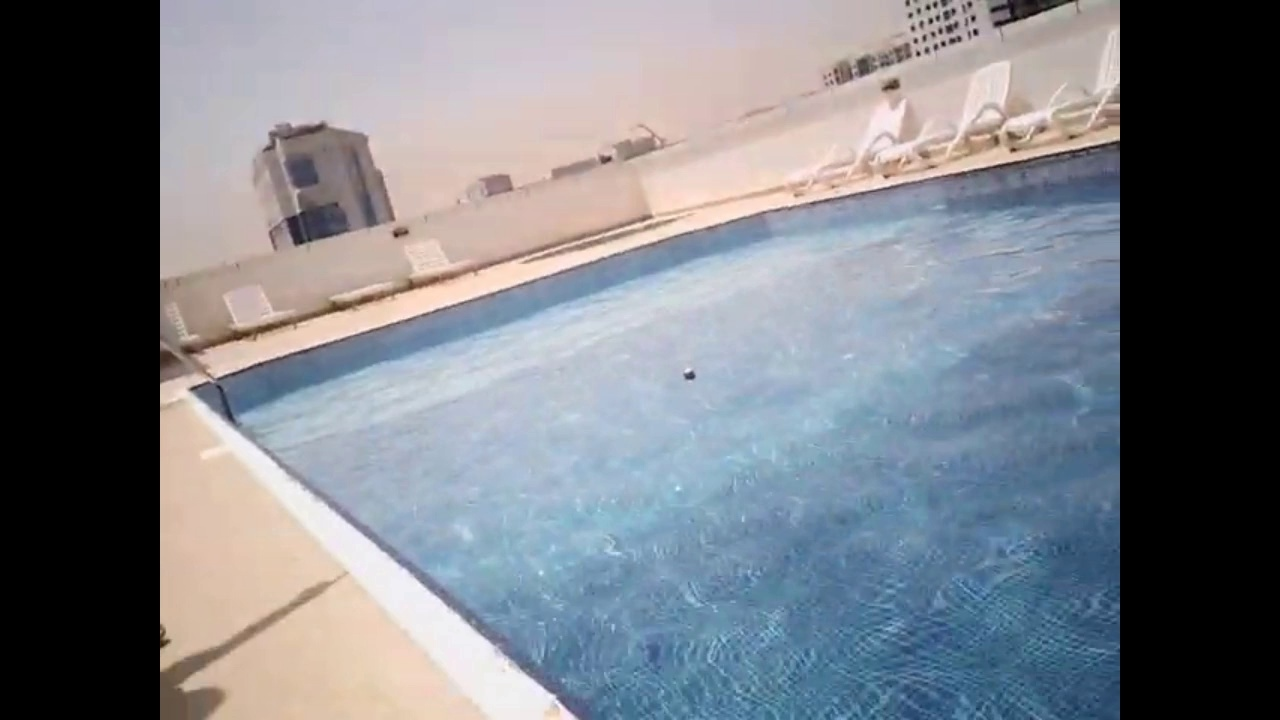debris: (680, 364, 699, 384)
